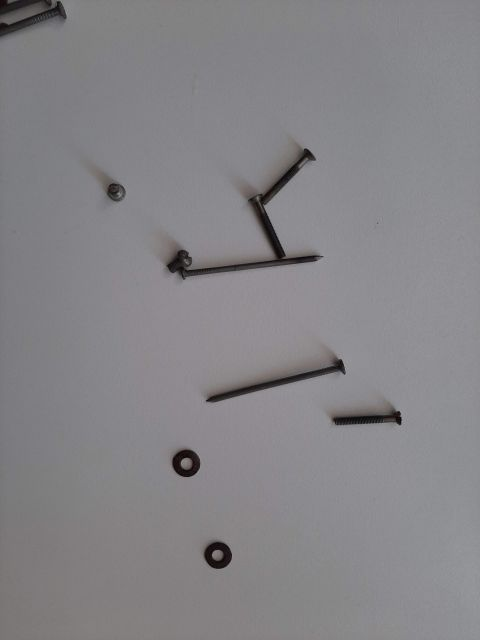gwozdz: (185, 325, 355, 415), (155, 245, 335, 295)
podkladka: (155, 415, 215, 475), (175, 525, 245, 565)
sruba: (215, 185, 305, 265), (245, 125, 325, 205), (325, 385, 415, 445)
